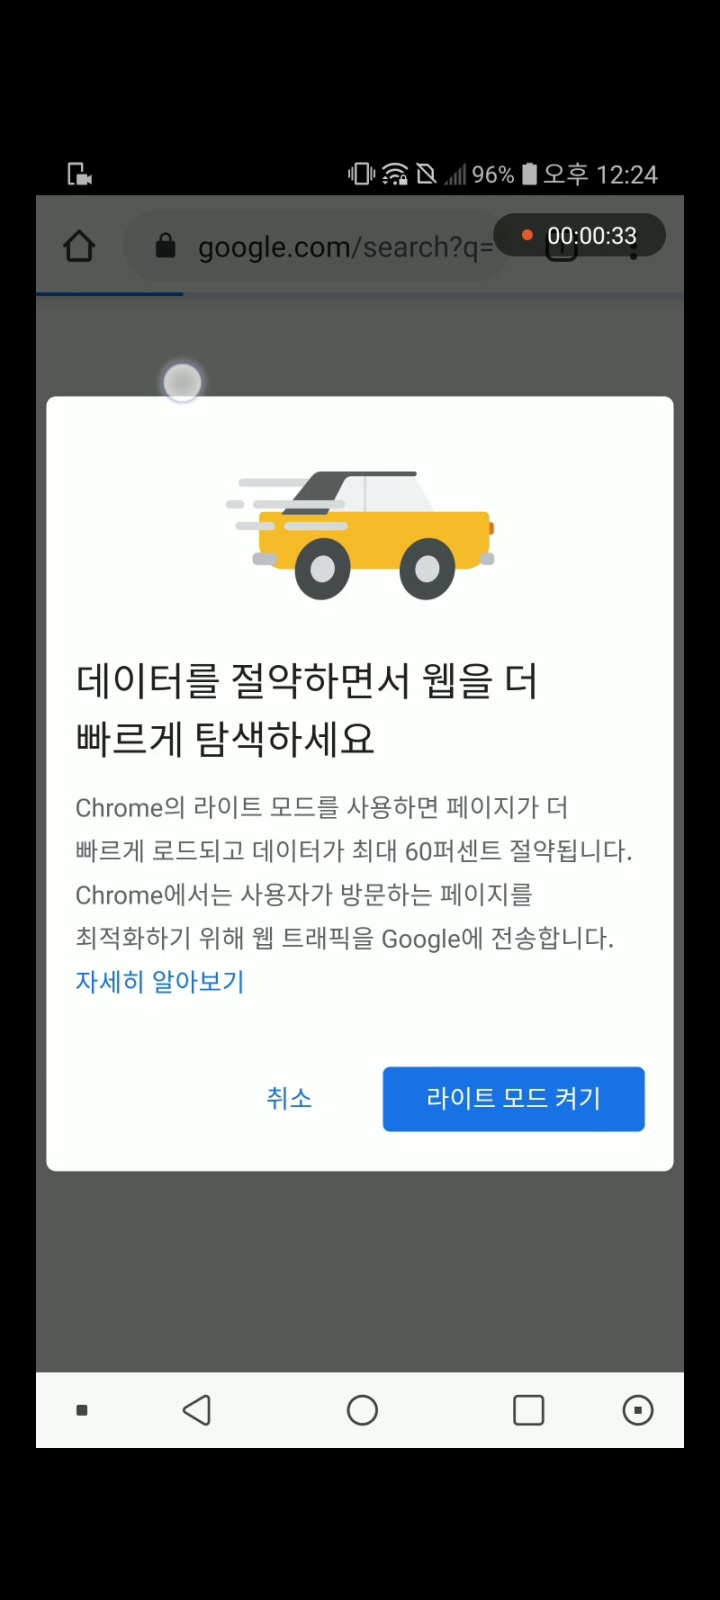Cursor: (161, 361, 206, 406)
